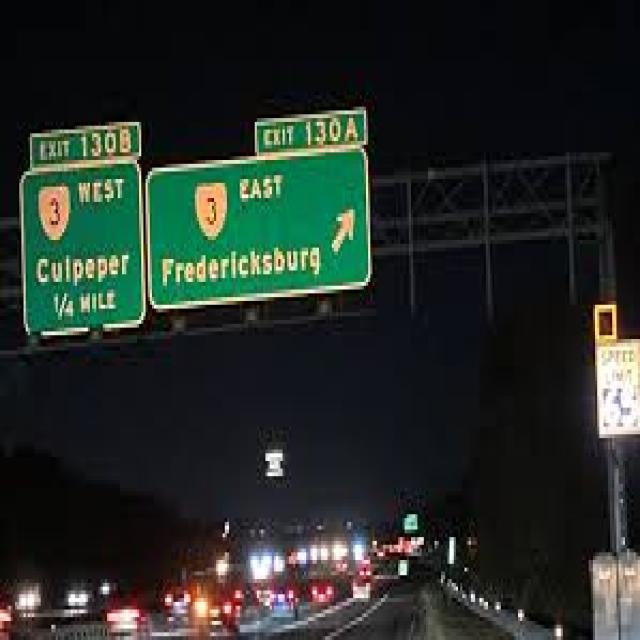speedLimit65: (595, 348, 636, 428)
